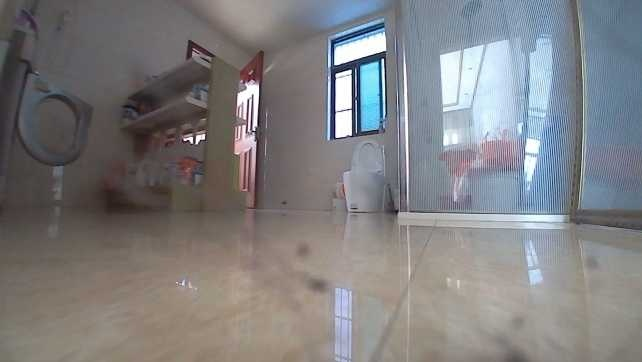door_anno: (231, 48, 265, 209)
toilet: (340, 137, 393, 213)
